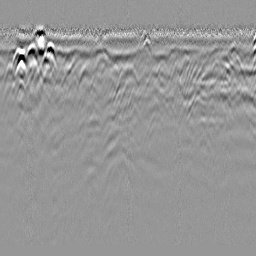cavity: (116, 61, 139, 91)
